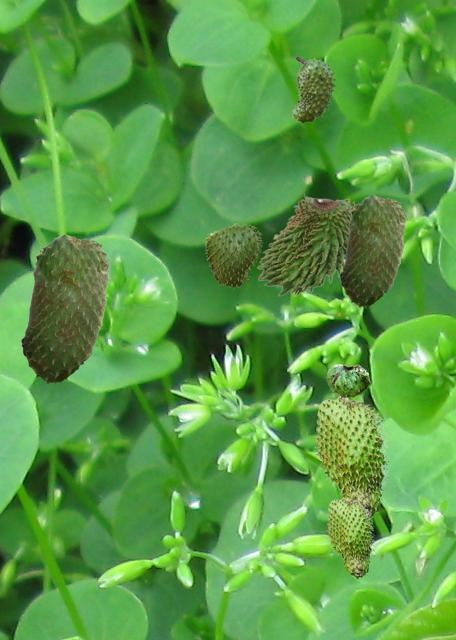guyabano: (20, 233, 110, 384), (256, 193, 355, 295), (314, 396, 389, 516), (339, 194, 406, 307), (326, 497, 374, 578), (205, 223, 262, 288), (291, 56, 337, 124), (326, 364, 369, 398)
